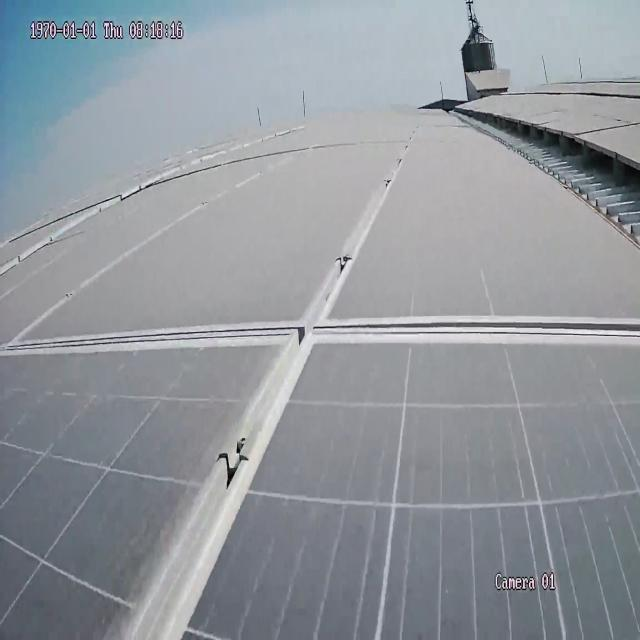interior panel: (6, 154, 640, 633)
outher panel: (448, 104, 639, 245)
